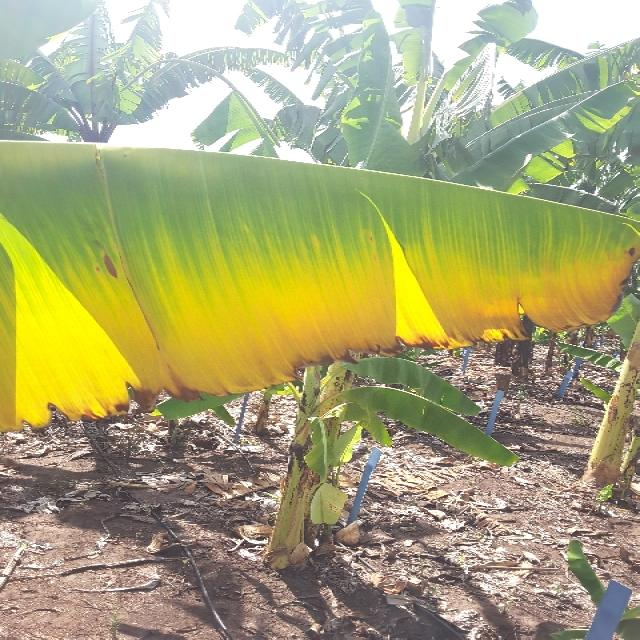Cordana: (0, 126, 640, 454)
